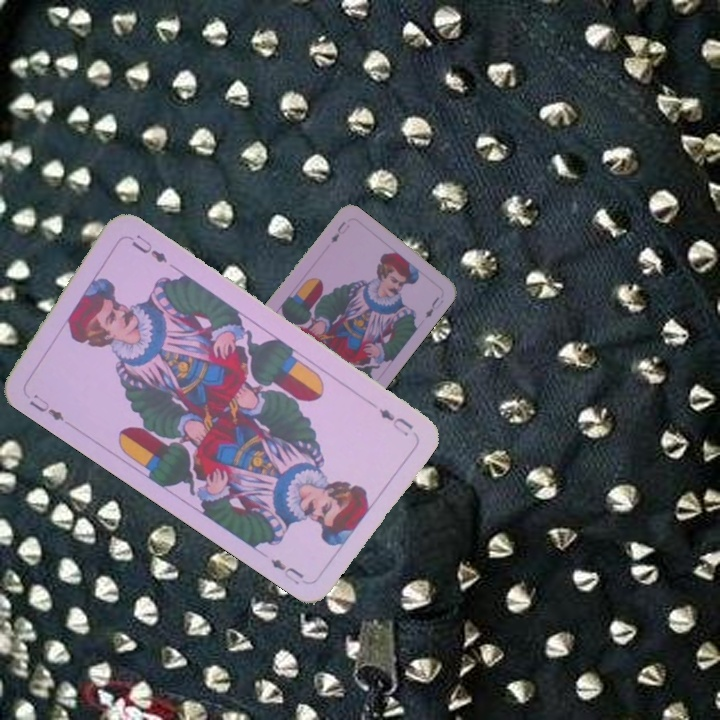EU: (25, 389, 67, 424), (374, 404, 416, 439), (326, 217, 353, 246)
